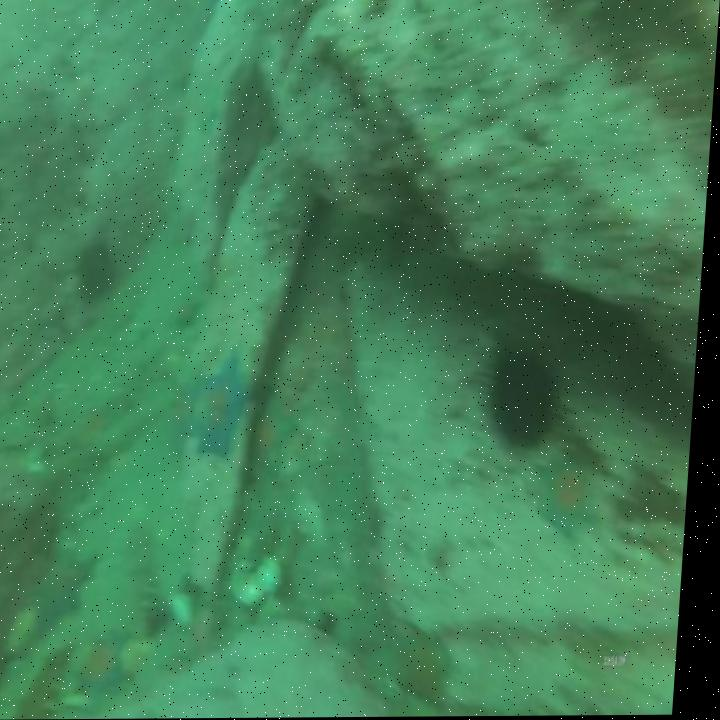echinus: (491, 345, 562, 447), (78, 248, 120, 296)
starfish: (189, 352, 252, 457), (540, 458, 608, 541), (39, 552, 100, 631), (403, 637, 462, 703), (257, 402, 300, 473), (93, 639, 134, 698)
